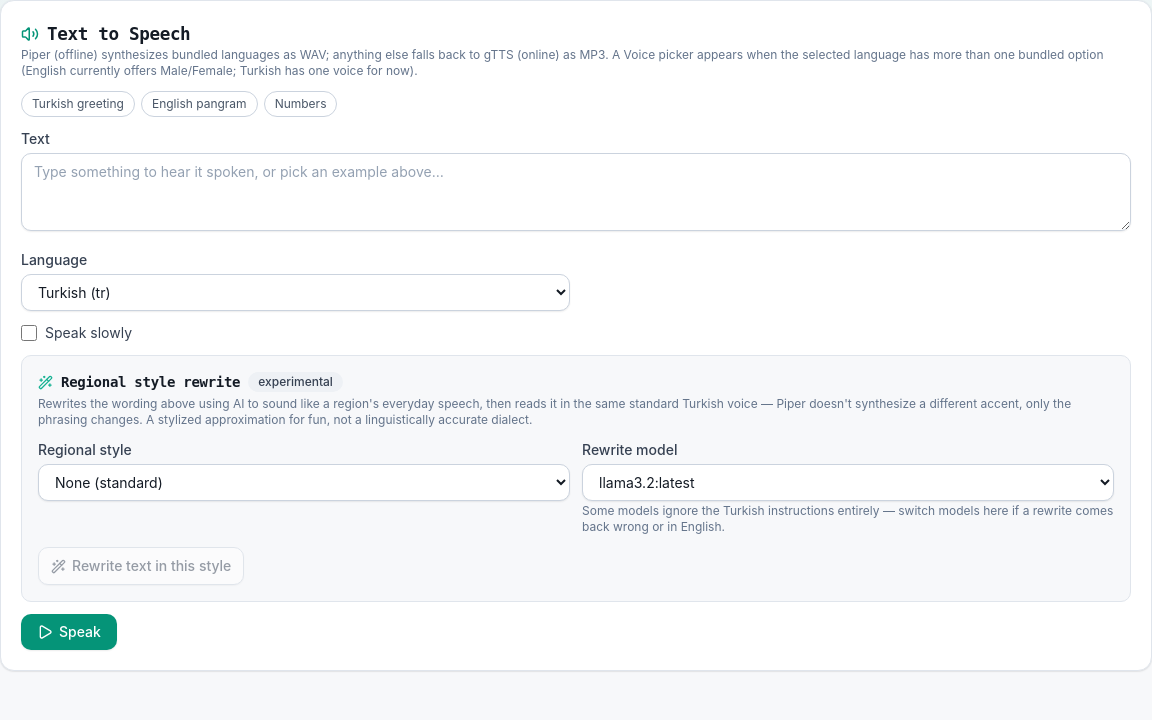
it: TextToSpeechCard rewrite › re-enables the Rewrite button after a failure (#597: no stuck 'Rewriting…')
The width and height of the screenshot is (1152, 720).
Type "Merhaba, nasılsın?" into the text box labelled "Text" at (576, 192), box [21, 153, 1131, 231]
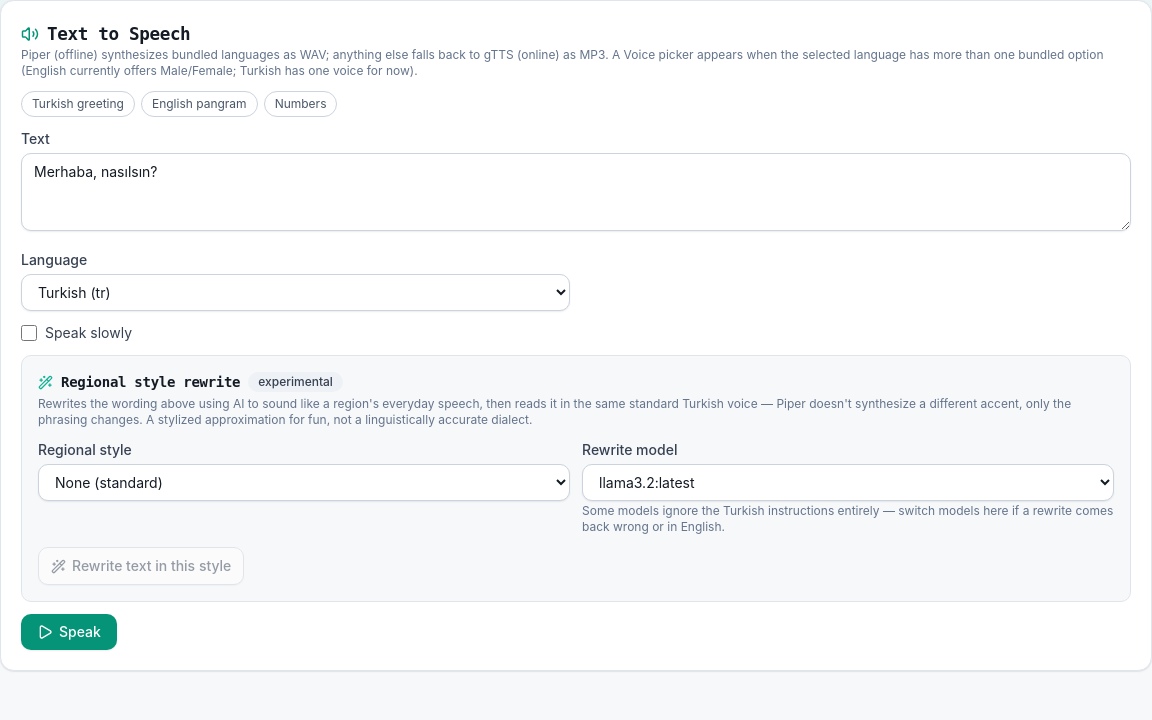
Select "Karadeniz" in the dropdown labelled "Regional style" at (304, 483), box [38, 464, 570, 501]
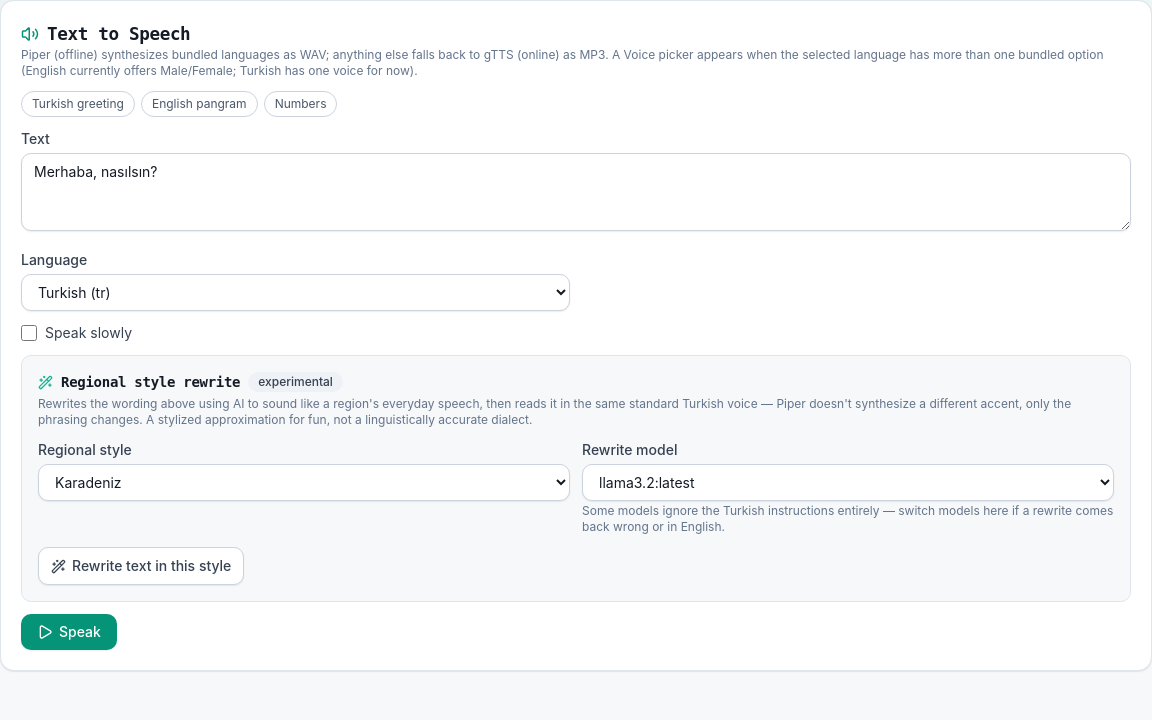
Click the button "Rewrite text in this style" at (141, 566), box [38, 547, 244, 585]
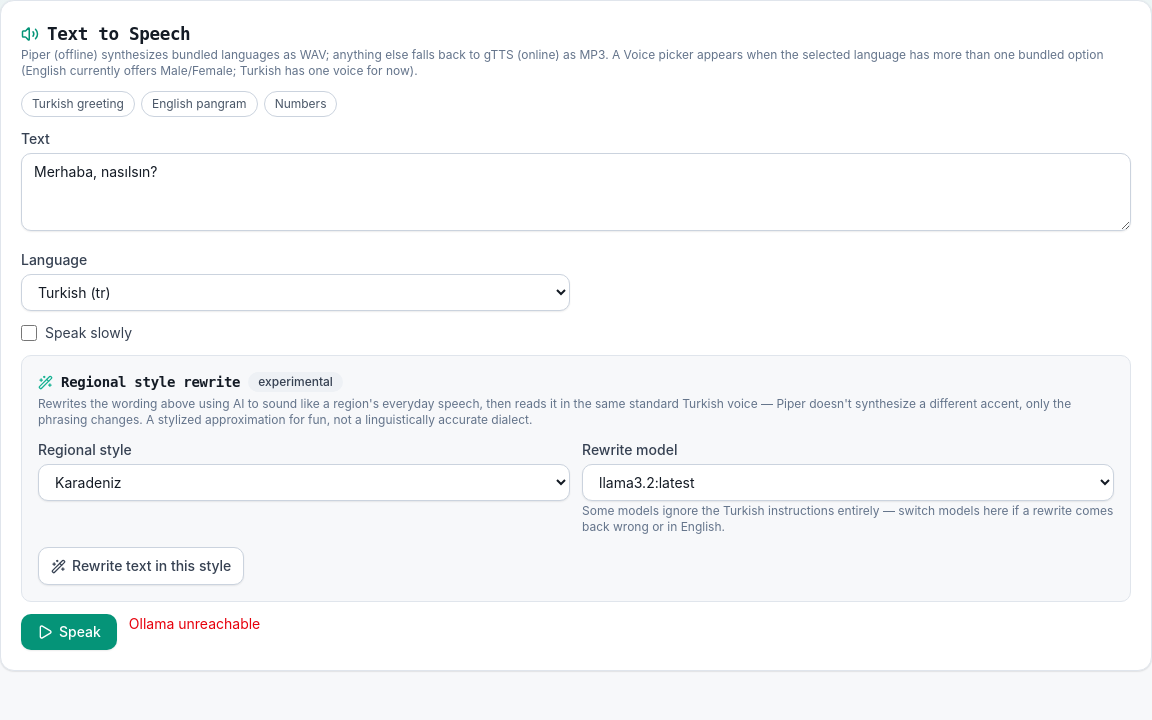
Now the button "Rewrite text in this style" is enabled, box [38, 547, 244, 585]
Now the text "Ollama unreachable" is shown, box [129, 614, 260, 634]
